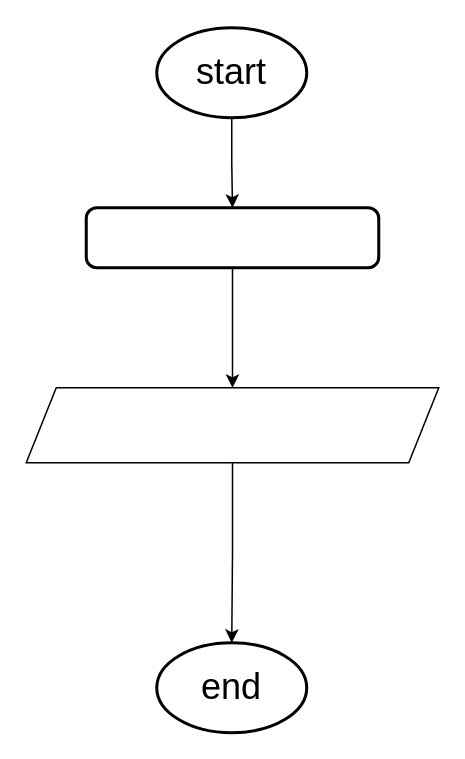
Some shapes in this 465 by 759 pixel diagram are drawn without their labels. The centre of each missing label's shape, as x and y in pixels:
a = 10, b = 20, c[] = "Haha", d = "a: point (232, 237)
output a, b, c, d: point (232, 424)
